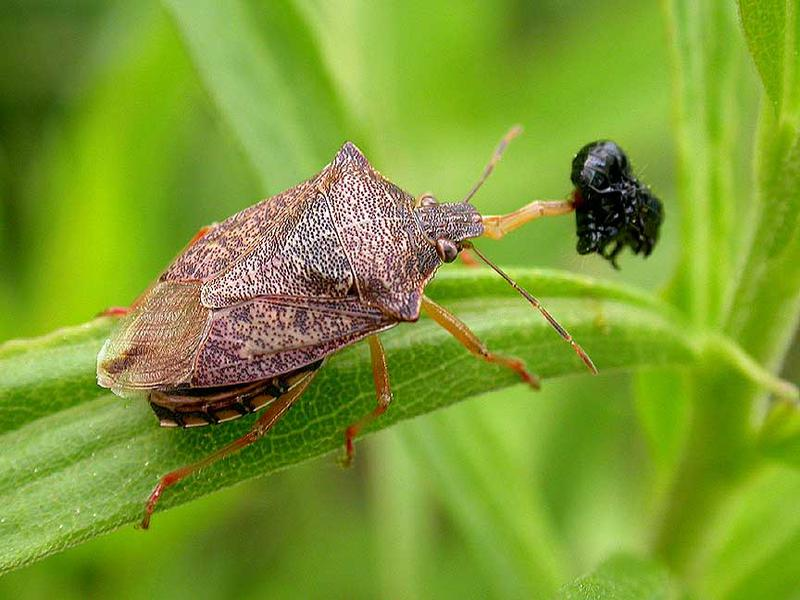Spiny_beetle: (67, 160, 667, 419)
